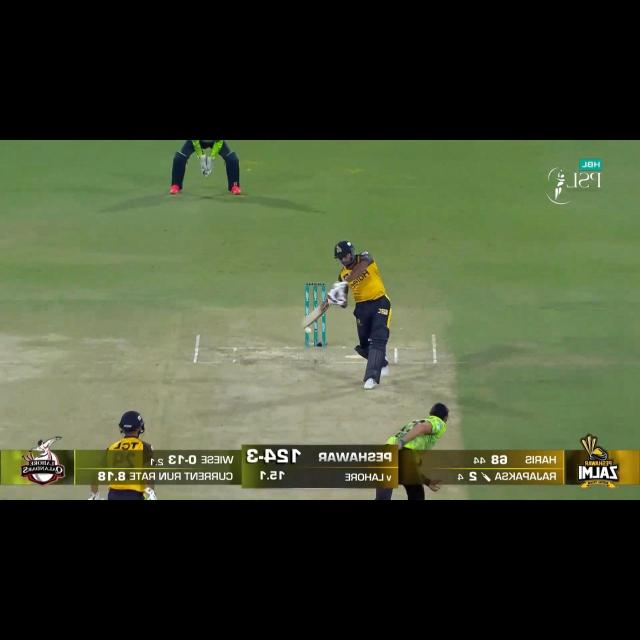bat: (301, 300, 332, 328)
toe: (301, 318, 308, 328)
